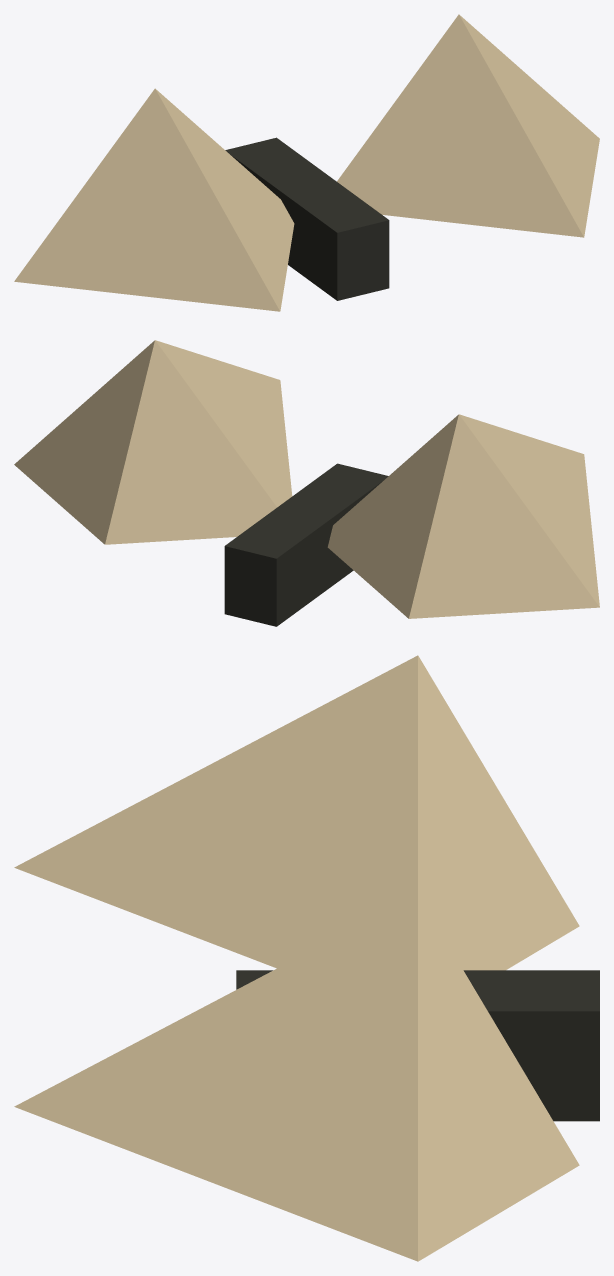
The model's file is butterfly_02.glb.
3 views of the same model, one above another, from view 1: azimuth 30°, elevation 25°; view 2: azimuth 150°, elevation 25°; view 3: azimuth 270°, elevation 25° (orthographic). The views are drawn at different scales.
Parts seen in each view (by area): view 1: wing_left__pale, wing_right__pale, body__dark; view 2: wing_left__pale, wing_right__pale, body__dark; view 3: wing_right__pale, wing_left__pale, body__dark.
Boxes of the visible parts, <box> form: wing_left__pale: <box>14,88,294,311</box>; wing_right__pale: <box>337,14,599,237</box>; body__dark: <box>225,137,389,300</box>; wing_left__pale: <box>327,414,599,618</box>; wing_right__pale: <box>14,340,292,544</box>; body__dark: <box>224,463,388,626</box>; wing_right__pale: <box>14,894,579,1261</box>; wing_left__pale: <box>14,655,579,970</box>; body__dark: <box>236,970,599,1121</box>.
Bounding box in the file's own units: 0.135 × 0.0445 × 0.0725.
